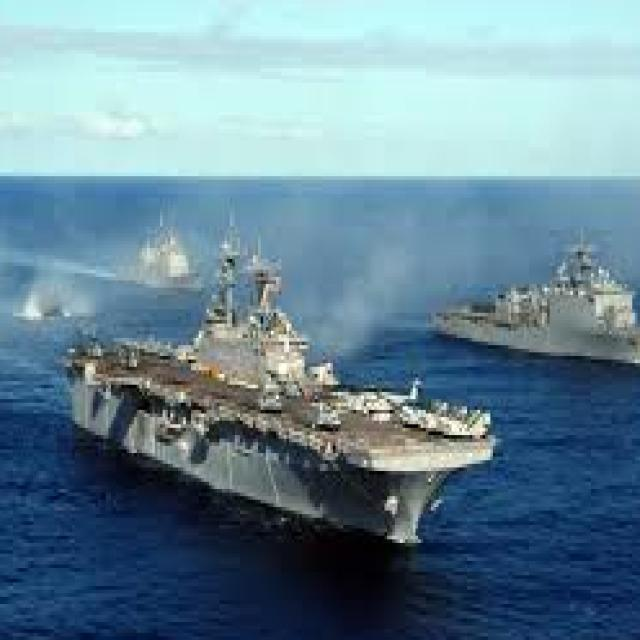navalvessels: (65, 229, 493, 571), (434, 223, 640, 374), (146, 207, 202, 286)
